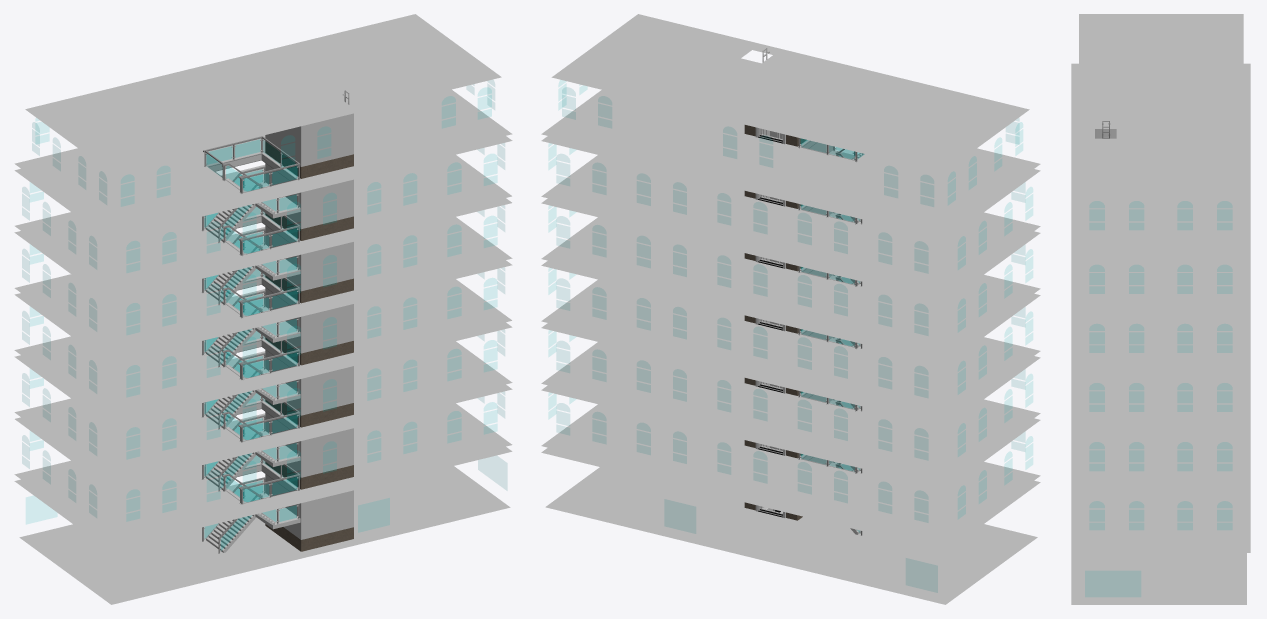
The model's file is SM_Building17_V1_Interior.fbx.
3 views of the same model, side by side, from view 1: azimuth 30°, elevation 25°; view 2: azimuth 150°, elevation 25°; view 3: azimuth 270°, elevation 25° (orthographic). The views are drawn at different scales.
Parts seen in each view (by area): view 1: SM_Building17_V1_Interior; view 2: SM_Building17_V1_Interior; view 3: SM_Building17_V1_Interior.
Part boxes in pixels (left/top/right/bottom): SM_Building17_V1_Interior: left=14, top=14, right=512, bottom=604; SM_Building17_V1_Interior: left=541, top=14, right=1040, bottom=604; SM_Building17_V1_Interior: left=1071, top=14, right=1250, bottom=604.
Bounding box in the file's own units: 2785 × 2960 × 1142.
